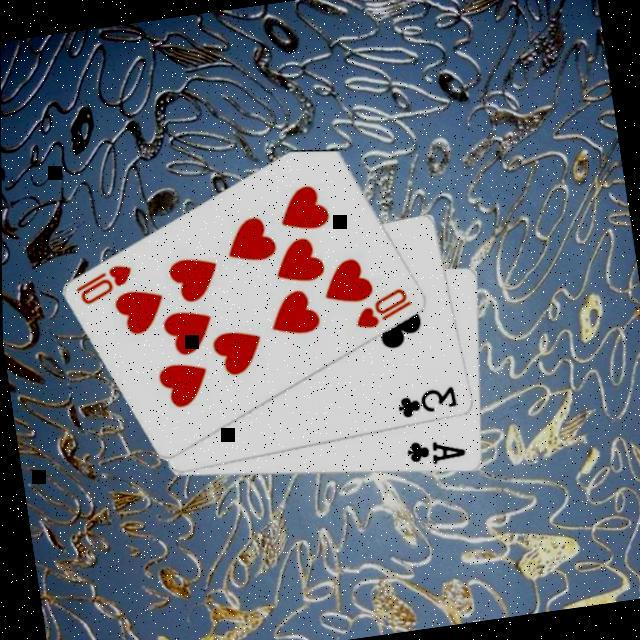10H: (348, 286, 417, 336), (69, 261, 138, 311)
3C: (392, 385, 460, 426)
AC: (402, 435, 469, 473)
